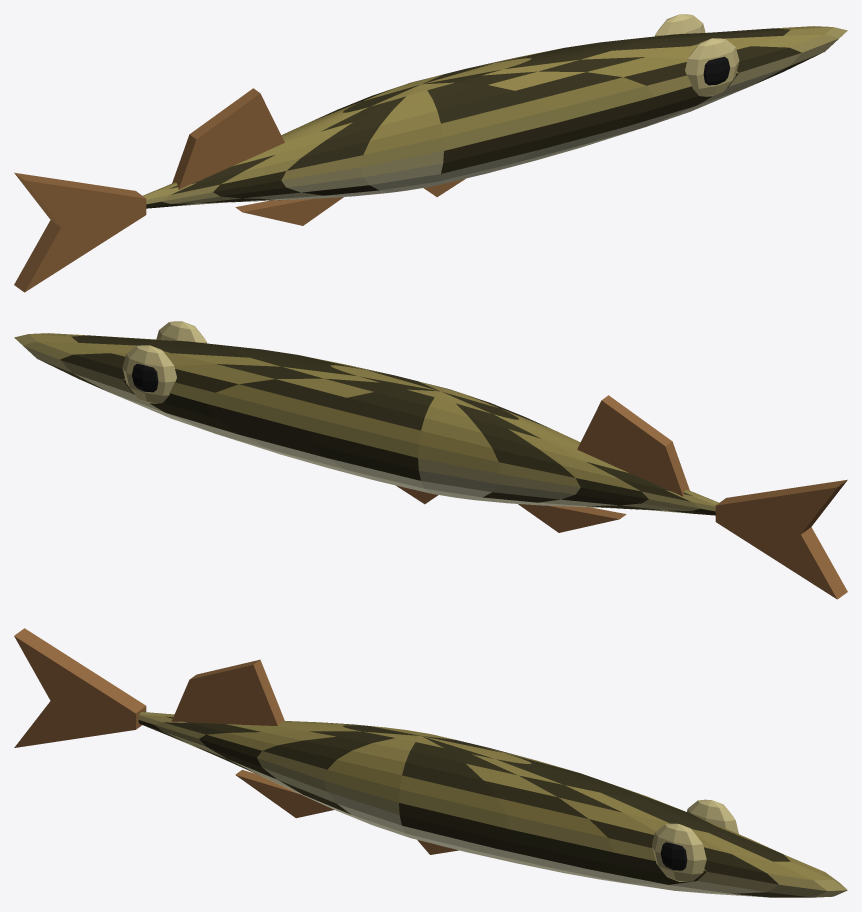
Rendered from TigerMuskie.glb.
3 renders of one model, top to bottom at view 1: azimuth 30°, elevation 25°; view 2: azimuth 150°, elevation 25°; view 3: azimuth 330°, elevation 25°, orthographic.
Visible parts, largest first — view 1: TigerMuskie; view 2: TigerMuskie; view 3: TigerMuskie.
Part boxes in pixels (x1,y1,x2,y2): TigerMuskie: (14,14,847,292); TigerMuskie: (14,321,847,599); TigerMuskie: (14,628,847,897).
Size of the model in its own units: 12.47 by 2.12 by 1.24.
